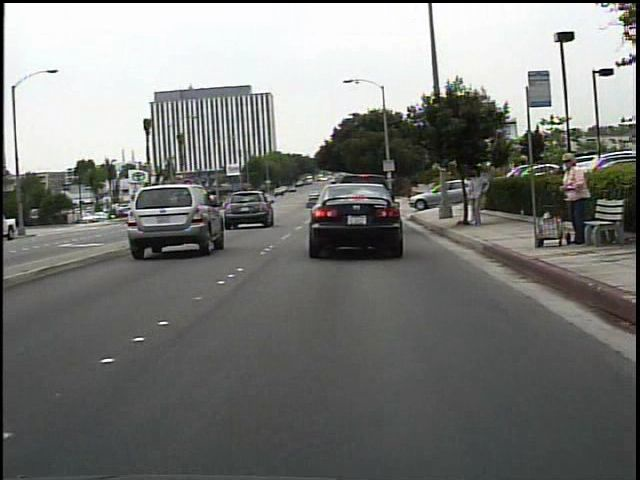person: (552, 149, 595, 251), (465, 161, 493, 228)
